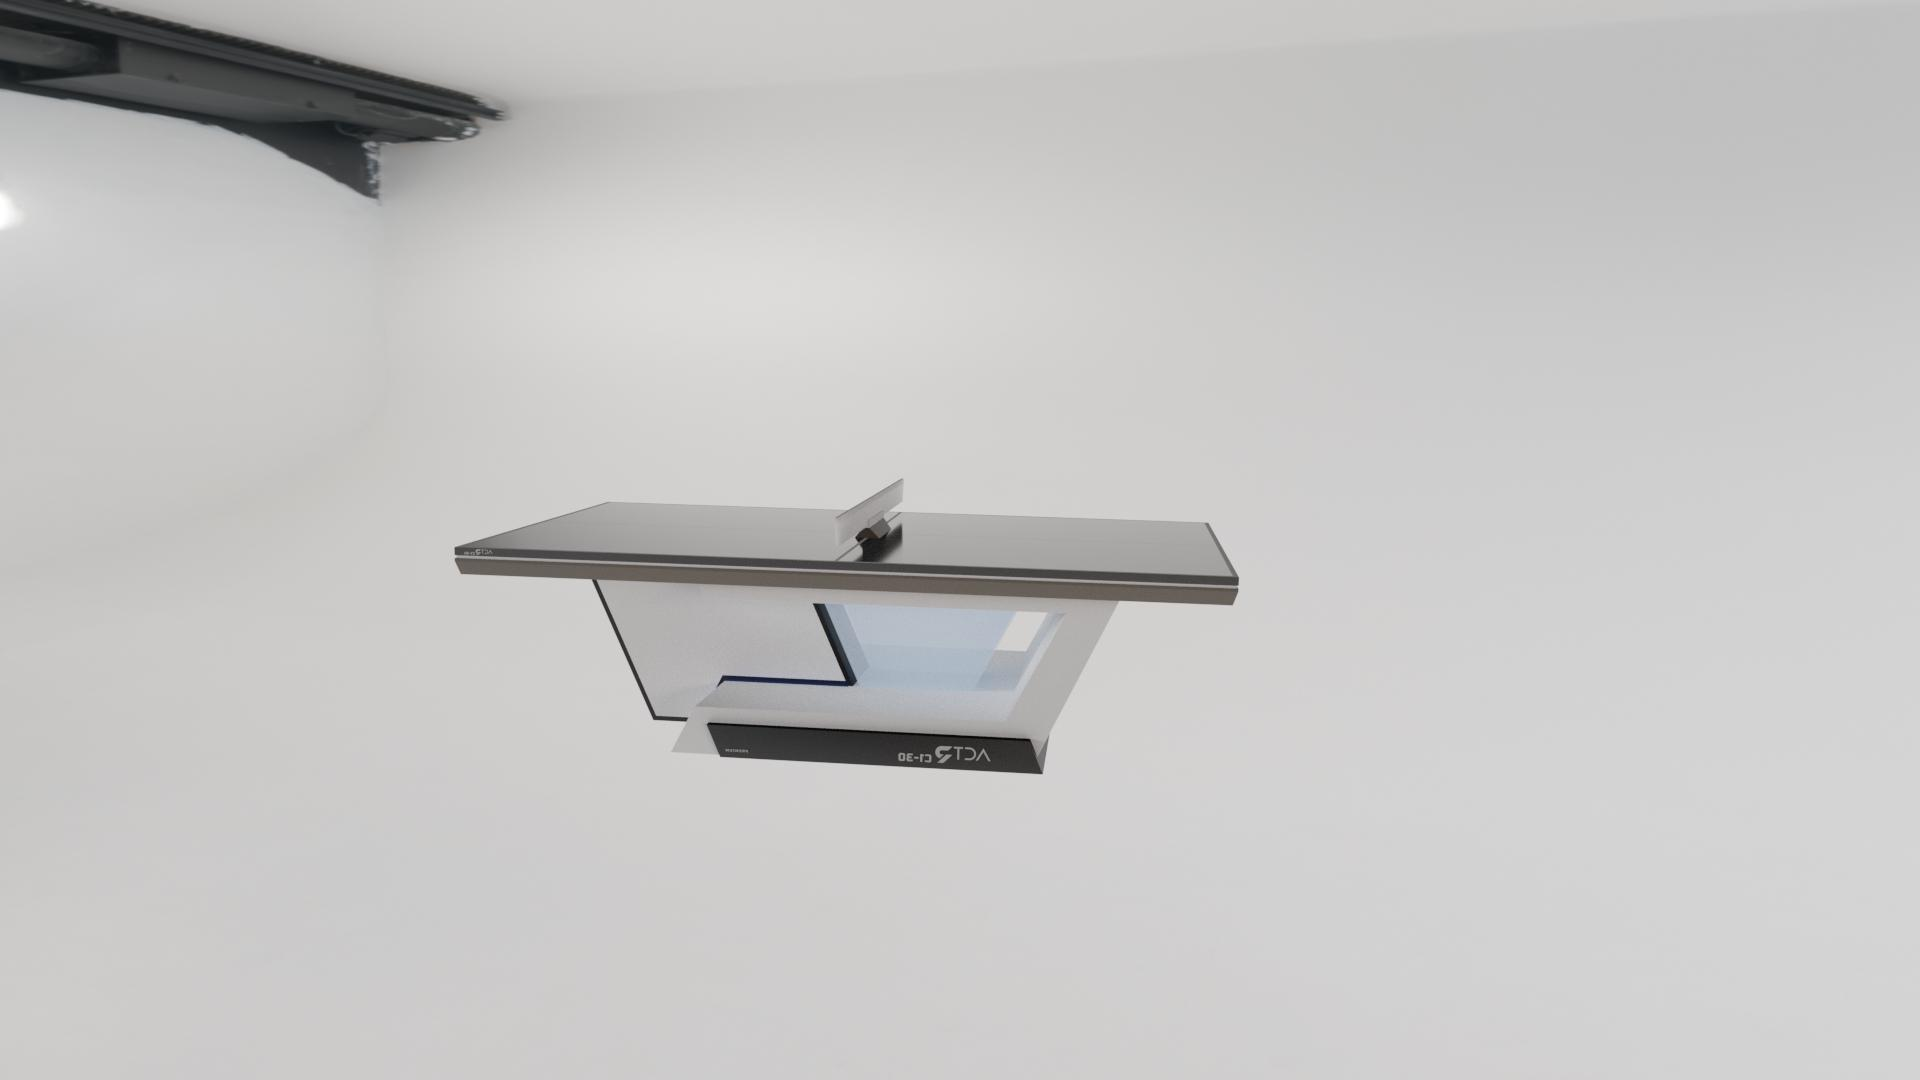table: (462, 502, 1233, 576)
